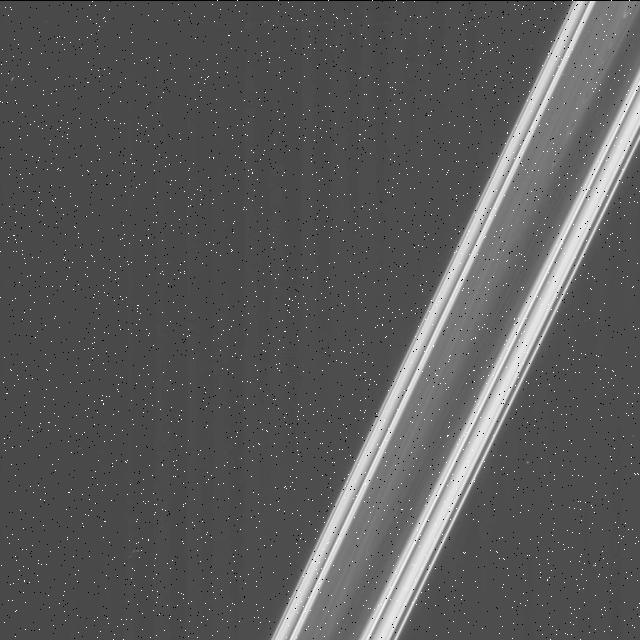Saturn: (234, 0, 640, 640)
